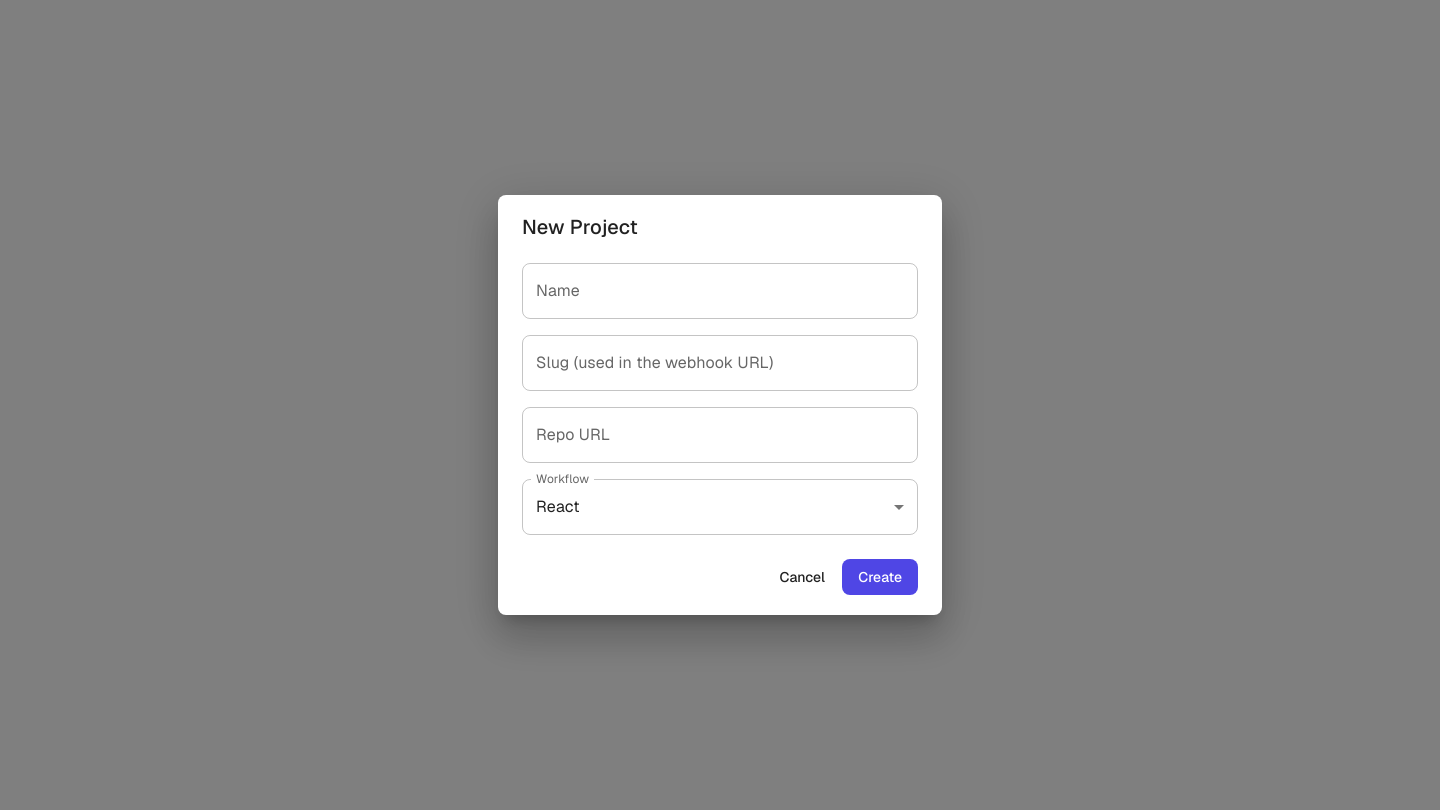
Test case: NewProjectModal › shows an error message when creation fails
Type "X" into the field labelled "Name" at (720, 291), box 522,263 -> 918,319
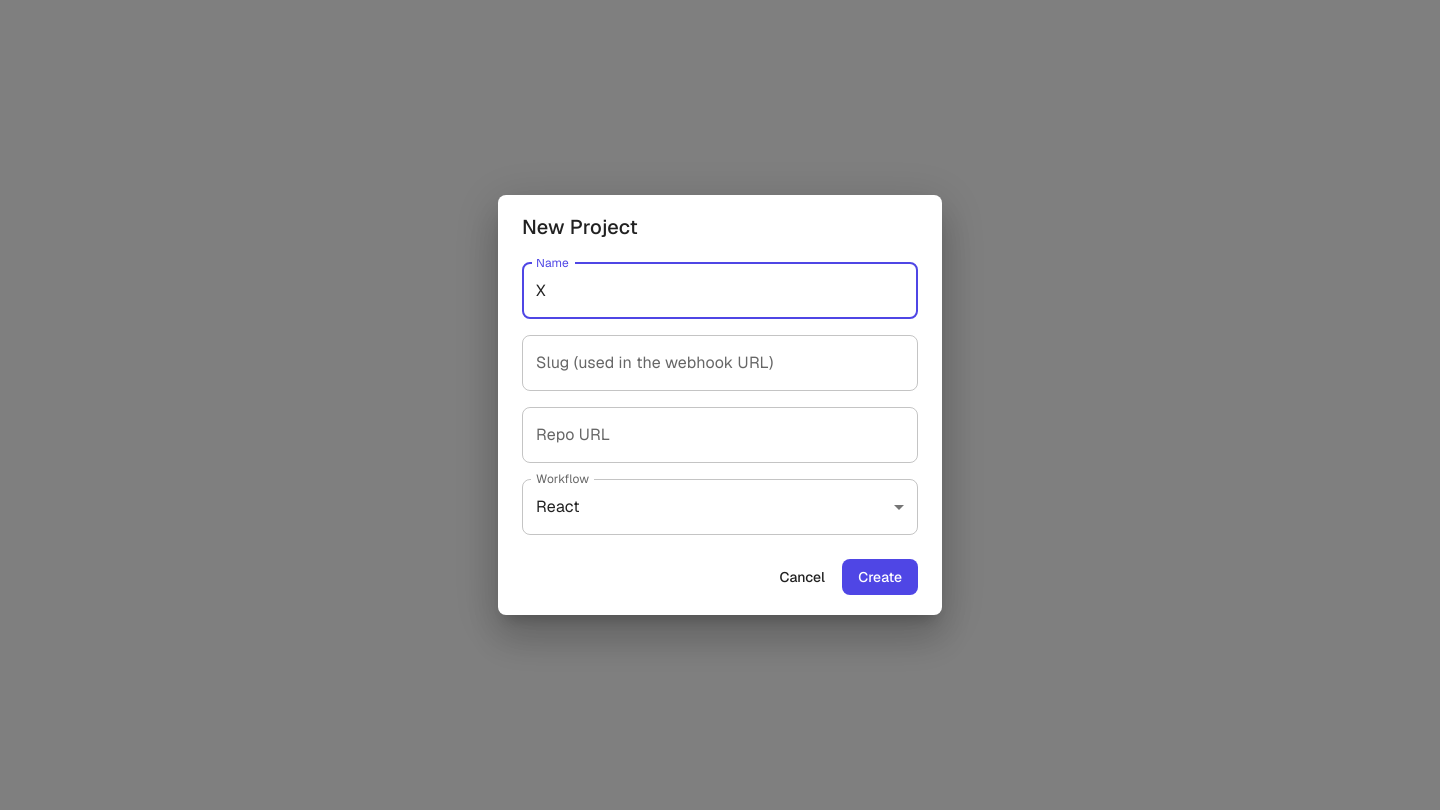
Type "x" into the field labelled "Slug (used in the webhook URL)" at (720, 363), box 522,335 -> 918,391
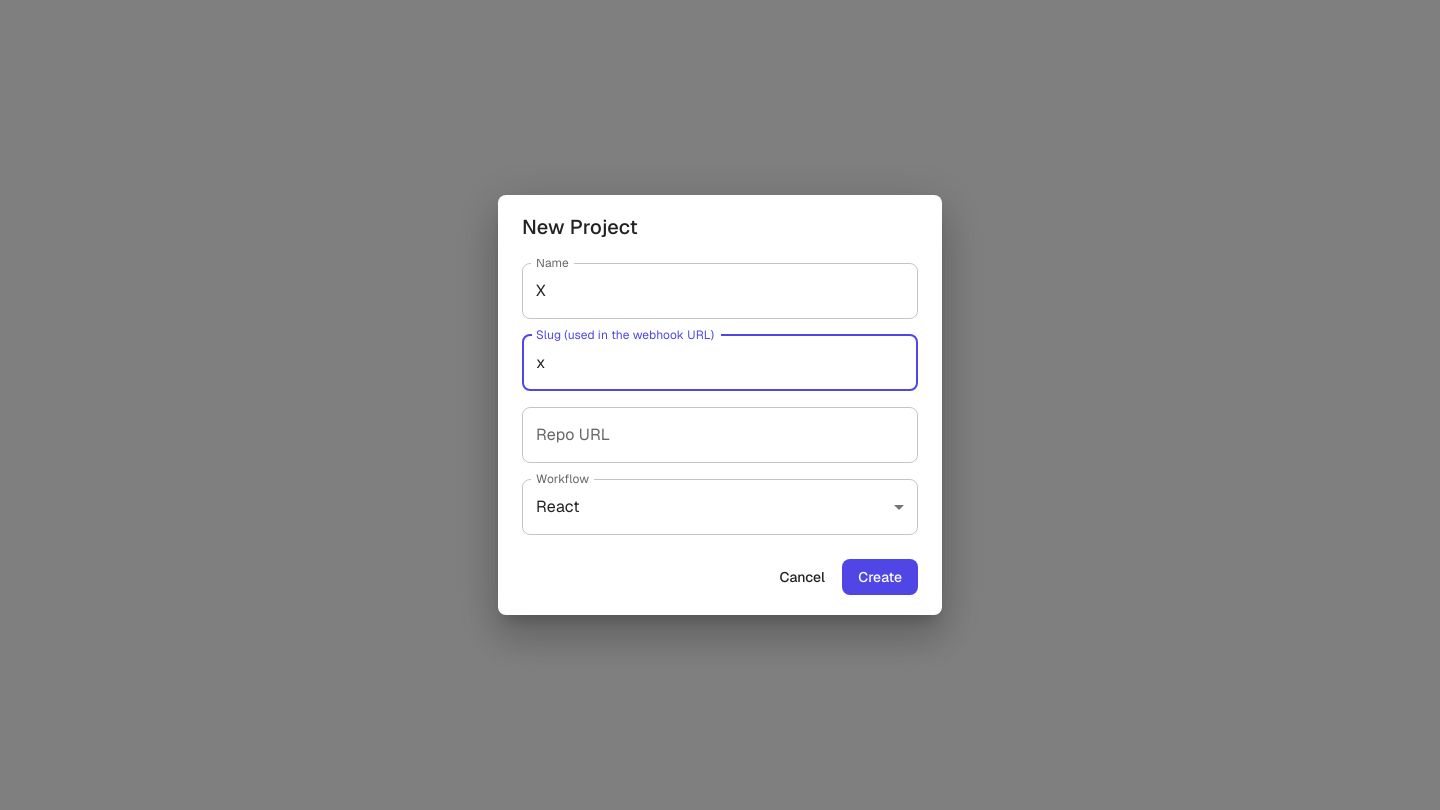
Click the button "Create" at (880, 577), box 842,559 -> 918,595
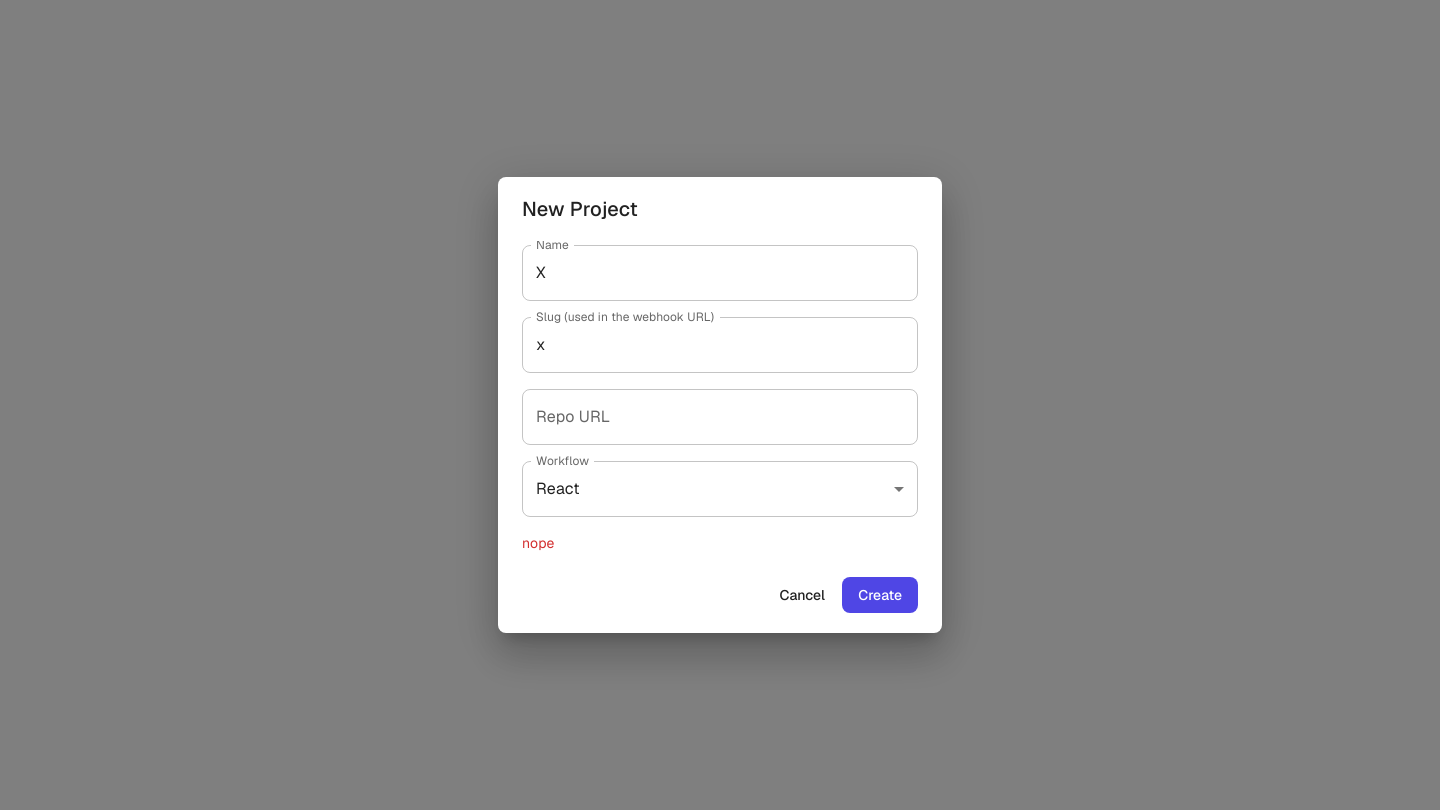
Expected: the text with test id "new-project-error" reads "nope", 522,534 -> 554,552
